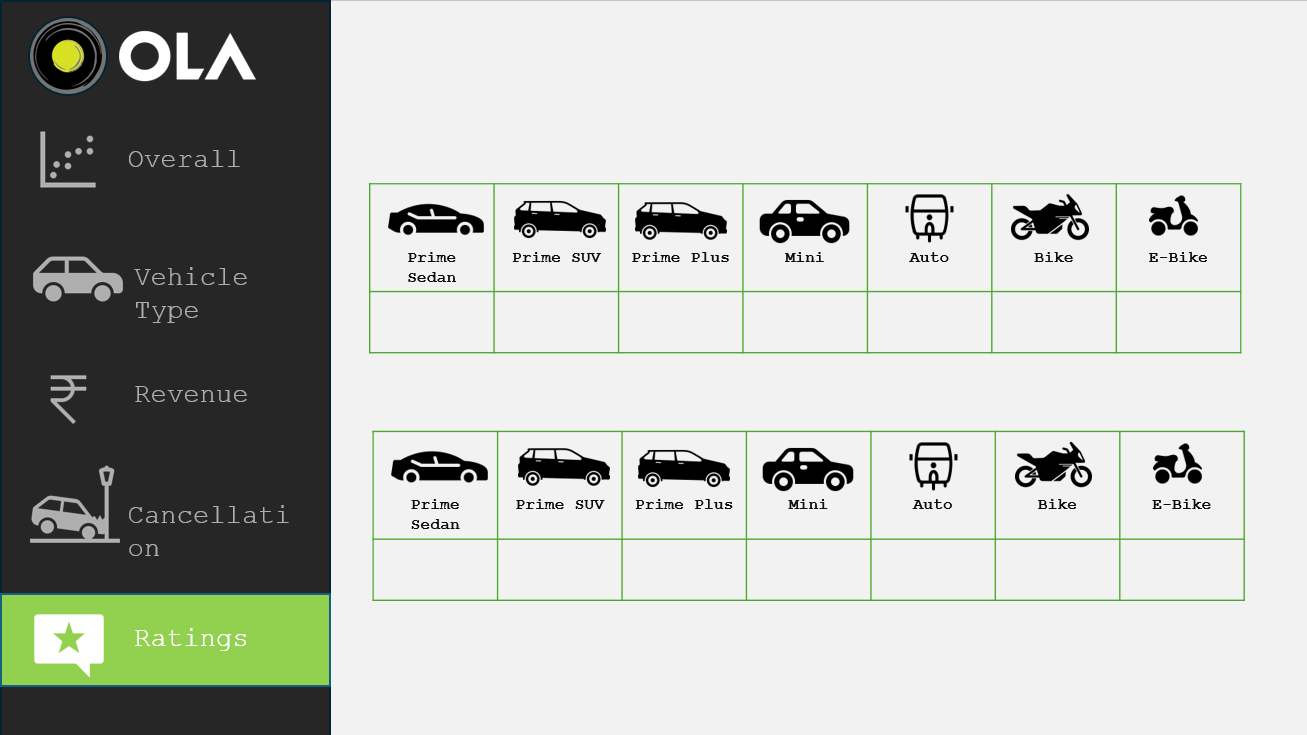

Layout of this report page (visuals, bound fields, positions):
{"tool":"powerbi","page":{"name":"RATINGS","canvas":[1280,720],"ordinal":4},"visuals":[{"type":"actionButton","box":[0,105.7,319.7,87.8],"z":0},{"type":"actionButton","box":[0,230.5,312.9,97.4],"z":1000},{"type":"actionButton","box":[0,337.6,312.9,97.4],"z":2000},{"type":"actionButton","box":[0,448.7,312.9,105.7],"z":3000},{"type":"actionButton","box":[2.7,577.7,310.1,101.5],"z":4000},{"type":"card","fields":{"Values":["Sum(Sheet1.Driver_Ratings)"]},"box":[354,279.9,127.6,65.9],"z":5000},{"type":"card","fields":{"Values":["Sum(Sheet1.Driver_Ratings)"]},"box":[481.6,279.9,127.6,65.9],"z":6000},{"type":"card","fields":{"Values":["Sum(Sheet1.Driver_Ratings)"]},"box":[598.3,279.9,127.6,65.9],"z":7000},{"type":"card","fields":{"Values":["Sum(Sheet1.Driver_Ratings)"]},"box":[725.9,279.9,127.6,65.9],"z":8000},{"type":"card","fields":{"Values":["Sum(Sheet1.Driver_Ratings)"]},"box":[853.5,279.9,127.6,65.9],"z":9000},{"type":"card","fields":{"Values":["Sum(Sheet1.Driver_Ratings)"]},"box":[981.1,284,113.9,57.6],"z":10000},{"type":"card","fields":{"Values":["Sum(Sheet1.Driver_Ratings)"]},"box":[1108.8,279.9,113.9,57.6],"z":11000},{"type":"card","fields":{"Values":["Sum(Sheet1.Customer_Rating)"]},"box":[367.8,525.6,113.9,57.6],"z":12000},{"type":"card","fields":{"Values":["Sum(Sheet1.Customer_Rating)"]},"box":[1110.1,525.6,113.9,57.6],"z":13000},{"type":"card","fields":{"Values":["Sum(Sheet1.Customer_Rating)"]},"box":[484.4,525.6,113.9,57.6],"z":14000},{"type":"card","fields":{"Values":["Sum(Sheet1.Customer_Rating)"]},"box":[609.3,525.6,113.9,57.6],"z":15000},{"type":"card","fields":{"Values":["Sum(Sheet1.Customer_Rating)"]},"box":[739.6,525.6,113.9,57.6],"z":16000},{"type":"card","fields":{"Values":["Sum(Sheet1.Customer_Rating)"]},"box":[867.2,525.6,113.9,57.6],"z":17000},{"type":"card","fields":{"Values":["Sum(Sheet1.Customer_Rating)"]},"box":[994.9,525.6,113.9,57.6],"z":18000},{"type":"textbox","box":[598.3,122.1,285.4,27.4],"z":19000},{"type":"textbox","box":[609.3,371.9,285.4,30.2],"z":20000}]}

Visuals, with their boxes on the page's 1280x720 design canvas (x1, y1, x2, y2). These are canvas units, not pixel positions in the 1307x735 screenshot, which may show the page scaled, cropped or inside an application window:
actionButton: box=[0, 106, 320, 194]
actionButton: box=[0, 230, 313, 328]
actionButton: box=[0, 338, 313, 435]
actionButton: box=[0, 449, 313, 554]
actionButton: box=[3, 578, 313, 679]
card - Sum(Sheet1.Driver_Ratings): box=[354, 280, 482, 346]
card - Sum(Sheet1.Driver_Ratings): box=[482, 280, 609, 346]
card - Sum(Sheet1.Driver_Ratings): box=[598, 280, 726, 346]
card - Sum(Sheet1.Driver_Ratings): box=[726, 280, 854, 346]
card - Sum(Sheet1.Driver_Ratings): box=[854, 280, 981, 346]
card - Sum(Sheet1.Driver_Ratings): box=[981, 284, 1095, 342]
card - Sum(Sheet1.Driver_Ratings): box=[1109, 280, 1223, 338]
card - Sum(Sheet1.Customer_Rating): box=[368, 526, 482, 583]
card - Sum(Sheet1.Customer_Rating): box=[1110, 526, 1224, 583]
card - Sum(Sheet1.Customer_Rating): box=[484, 526, 598, 583]
card - Sum(Sheet1.Customer_Rating): box=[609, 526, 723, 583]
card - Sum(Sheet1.Customer_Rating): box=[740, 526, 854, 583]
card - Sum(Sheet1.Customer_Rating): box=[867, 526, 981, 583]
card - Sum(Sheet1.Customer_Rating): box=[995, 526, 1109, 583]
textbox: box=[598, 122, 884, 150]
textbox: box=[609, 372, 895, 402]
